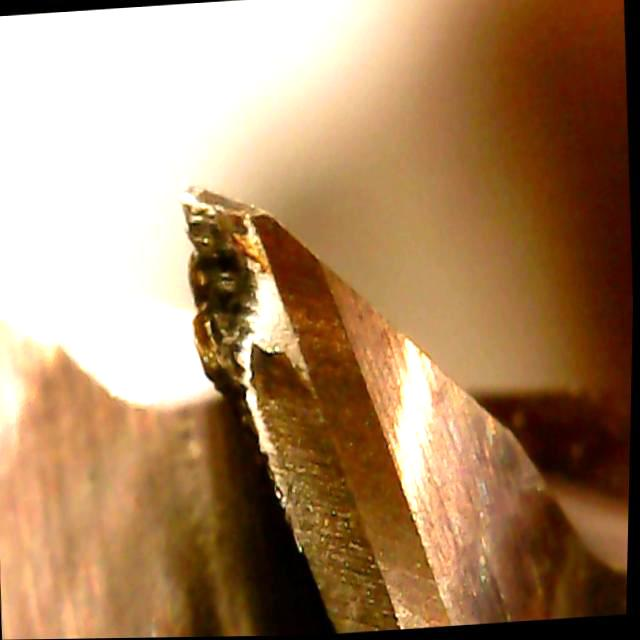Tool-wear-class-3: (163, 164, 346, 414)
